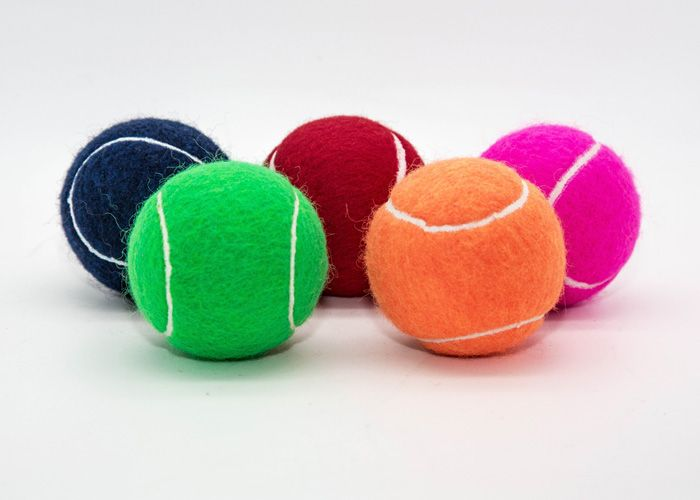blue ball: (59, 116, 230, 297)
red ball: (262, 113, 426, 302)
